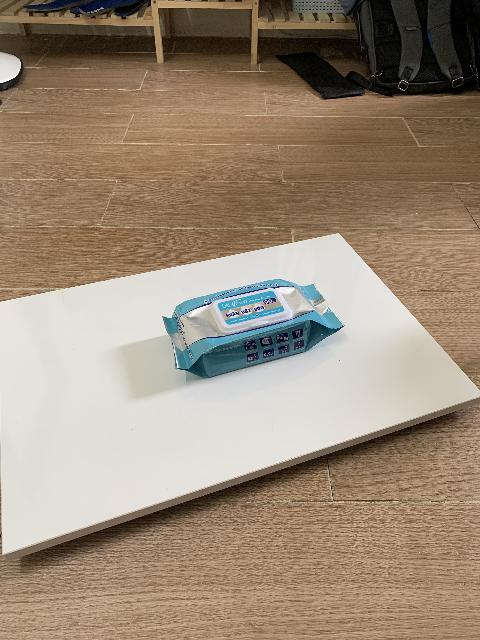Let-green_alcohol_wipes: (161, 279, 341, 379)
